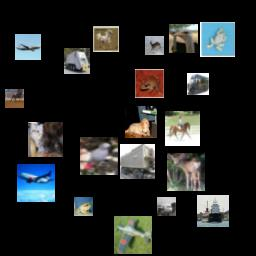airplane: (17, 164, 55, 202), (114, 216, 152, 254), (15, 34, 41, 60), (157, 197, 176, 216)
bird: (80, 137, 118, 175), (169, 24, 198, 53)
cat: (28, 122, 63, 157)
deer: (167, 153, 205, 191), (145, 36, 164, 55)
dog: (125, 106, 157, 138)
frog: (200, 22, 235, 57), (135, 69, 164, 98), (74, 197, 93, 216)
ship: (197, 195, 229, 227)
truck: (120, 144, 155, 179), (64, 48, 90, 74), (187, 73, 209, 95)
